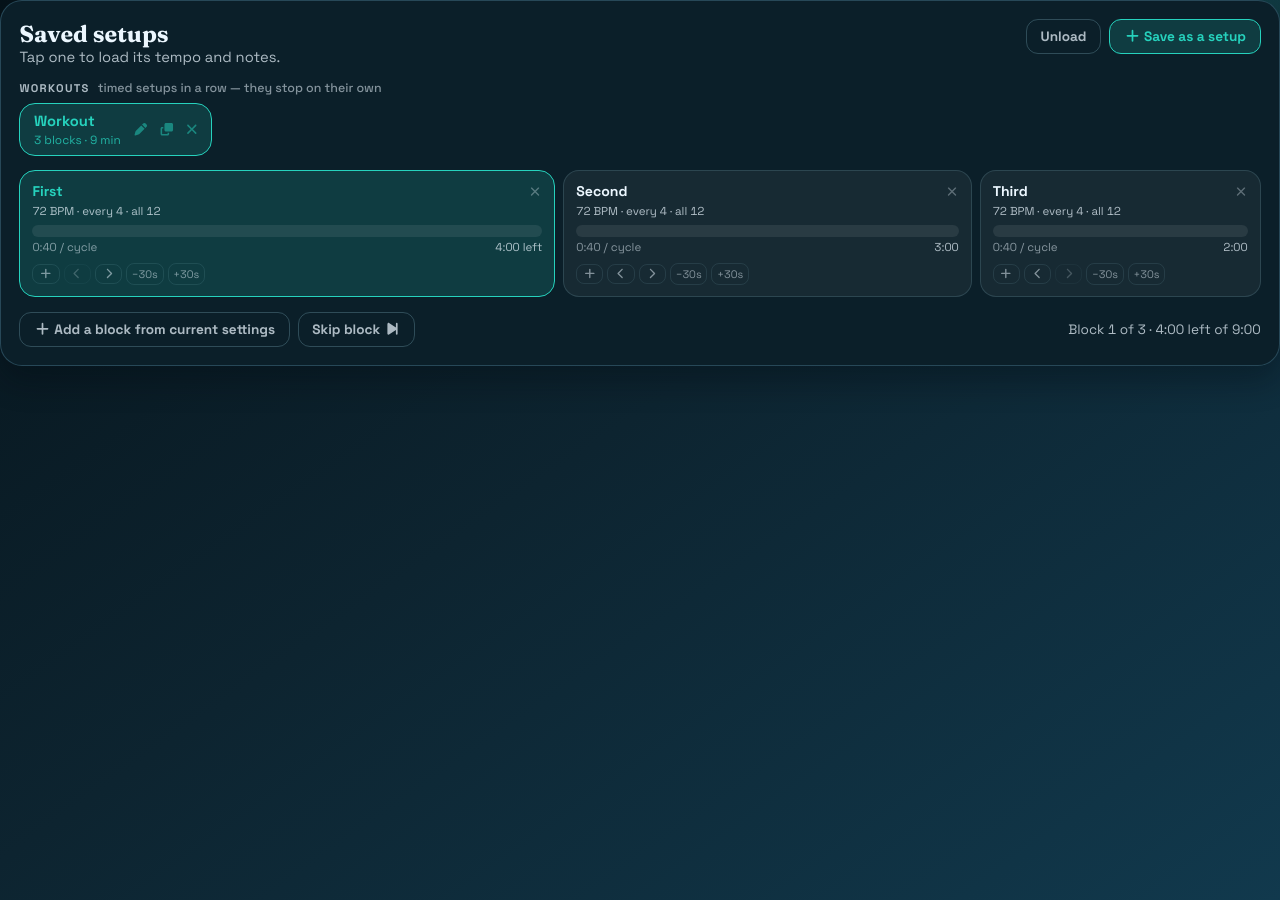
renaming a chip › submits a rename, never a save, and closes the form
The width and height of the screenshot is (1280, 900).
Click the button named "Rename Workout" at (140, 130), box [127, 104, 152, 155]
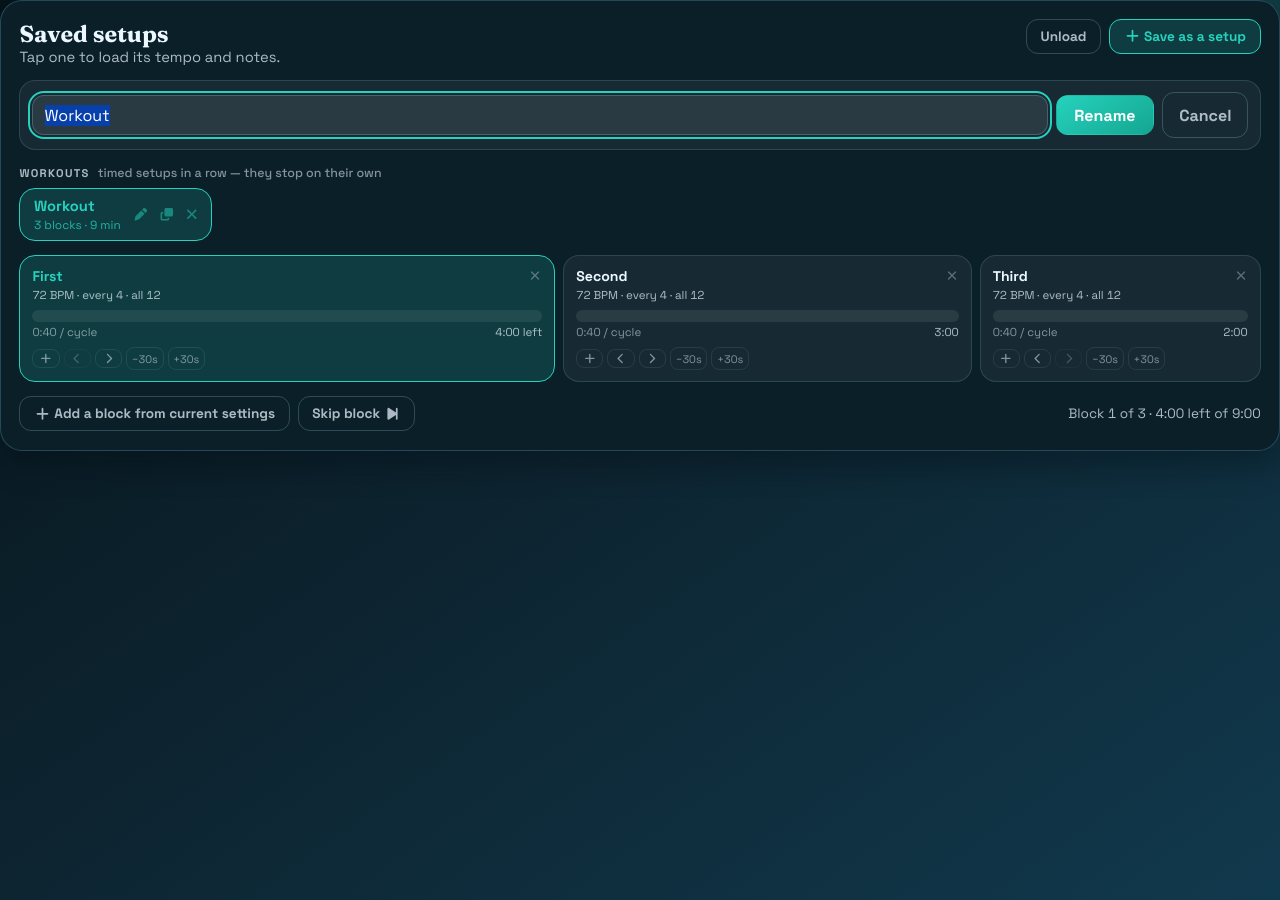
Replace the text in the field with test id "routine-name-input" with "New name" at (540, 115), box [32, 95, 1048, 136]
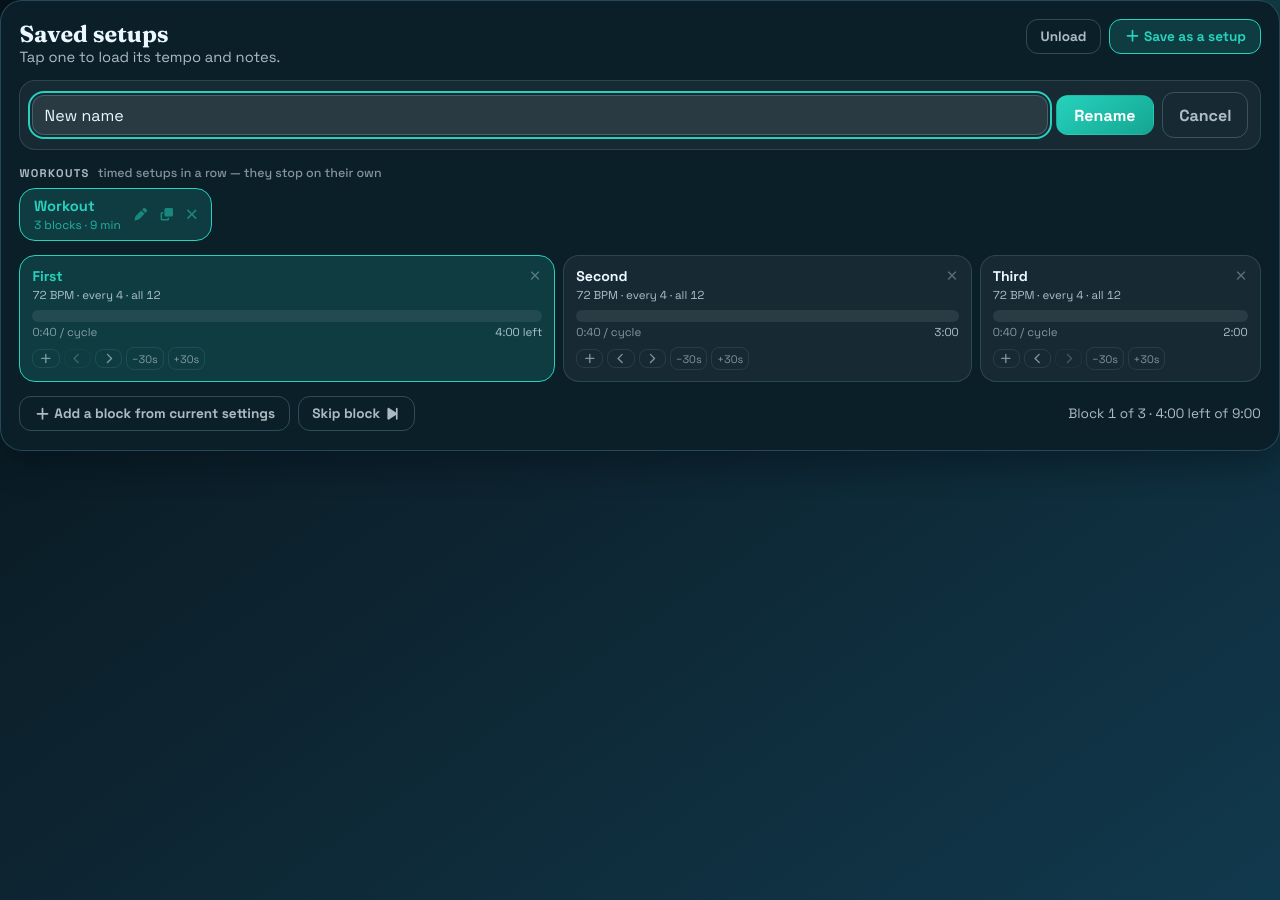
Click the button with test id "routine-save-confirm" at (1105, 115), box [1056, 95, 1154, 136]
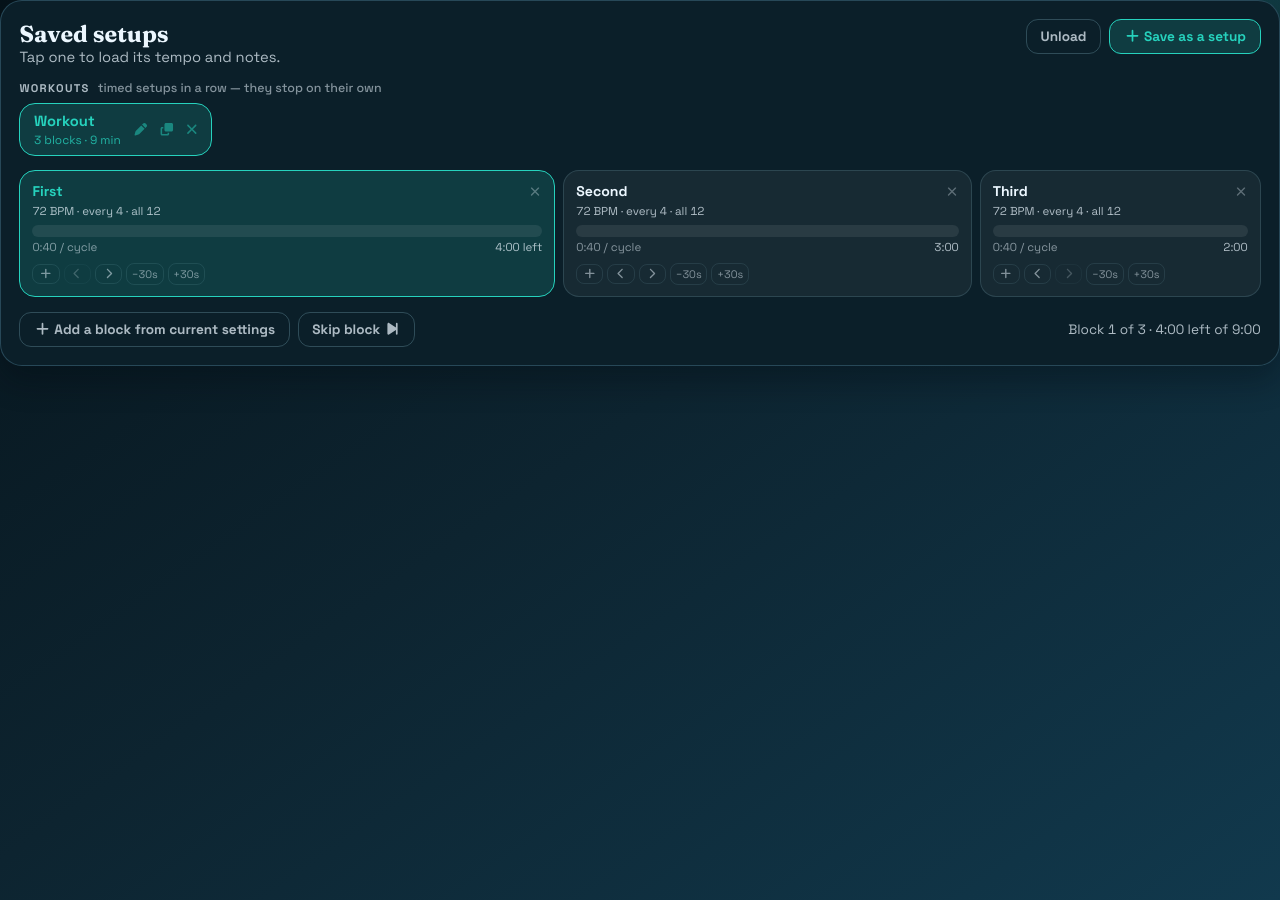
Now the form with test id "routine-save-form" is gone
